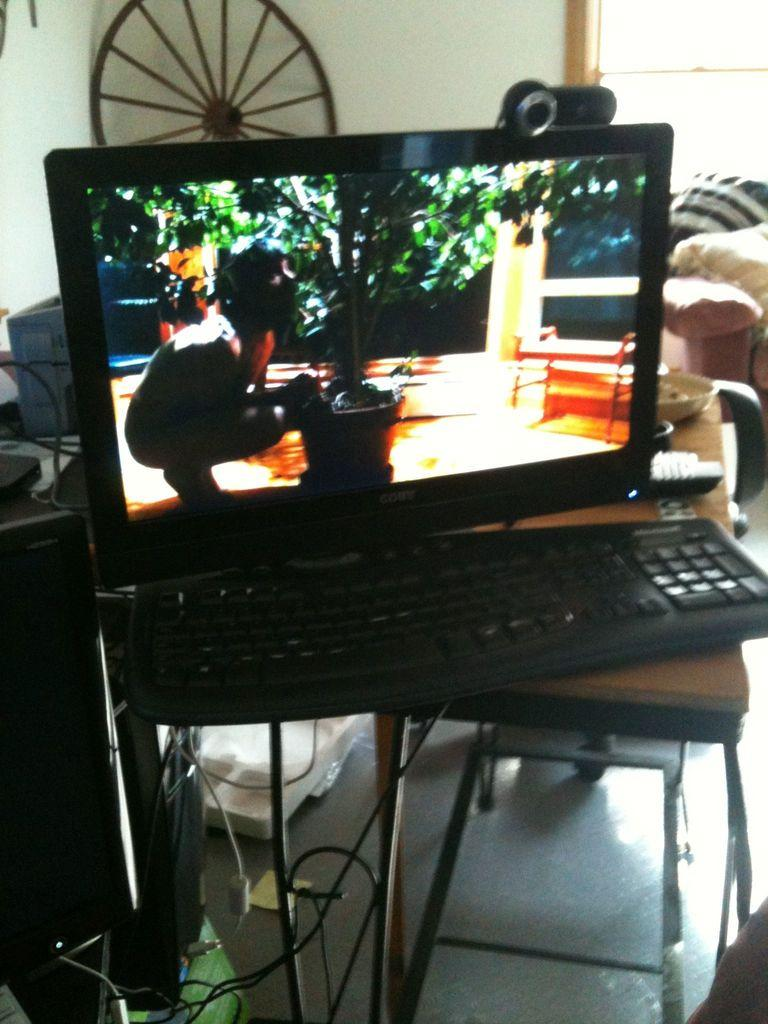Computer-monitor: (81, 127, 703, 589)
